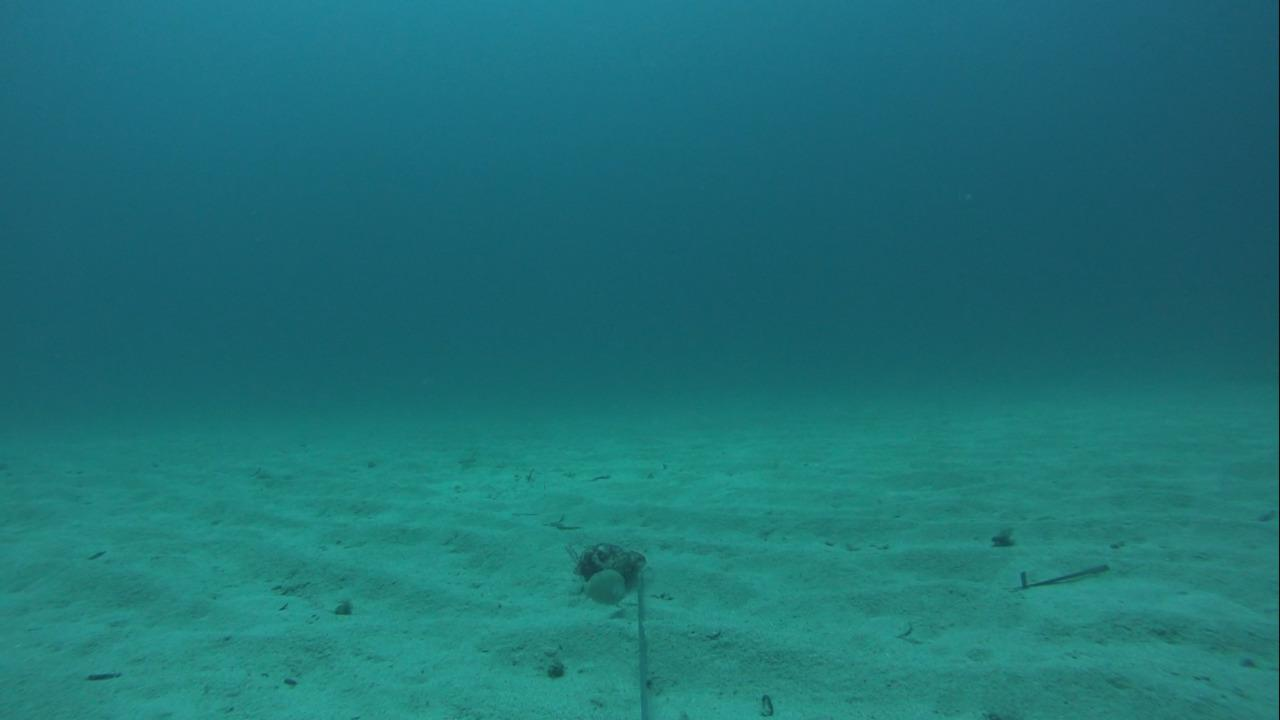raor: (572, 560, 636, 610)
